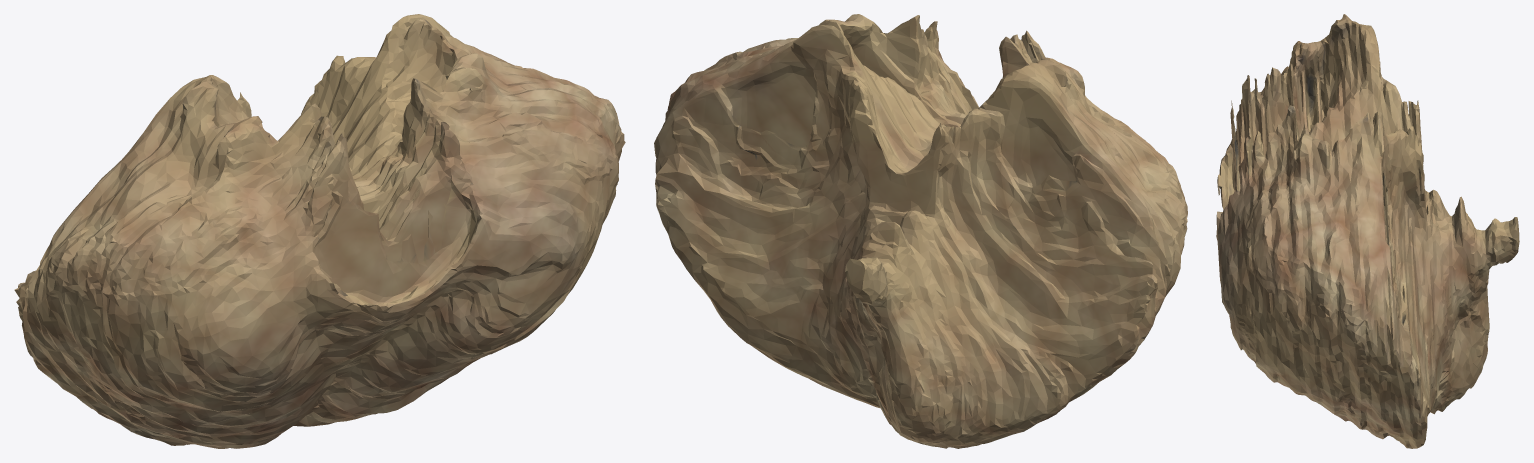
File: cerebellum.obj
The picture shows the model from 3 angles, left to right: view 1: azimuth 30°, elevation 25°; view 2: azimuth 150°, elevation 25°; view 3: azimuth 270°, elevation 25°; orthographic projection. The views are drawn at different scales.
Visible parts, largest first — view 1: Cerebellum_Untitled.056; view 2: Cerebellum_Untitled.056; view 3: Cerebellum_Untitled.056.
Part boxes in pixels (bbox=[...]): Cerebellum_Untitled.056: bbox=[14, 14, 625, 448]; Cerebellum_Untitled.056: bbox=[654, 14, 1187, 448]; Cerebellum_Untitled.056: bbox=[1216, 14, 1519, 448].
Bounding box in the file's own units: 328 × 222 × 174.
1 material, 1 textured.
